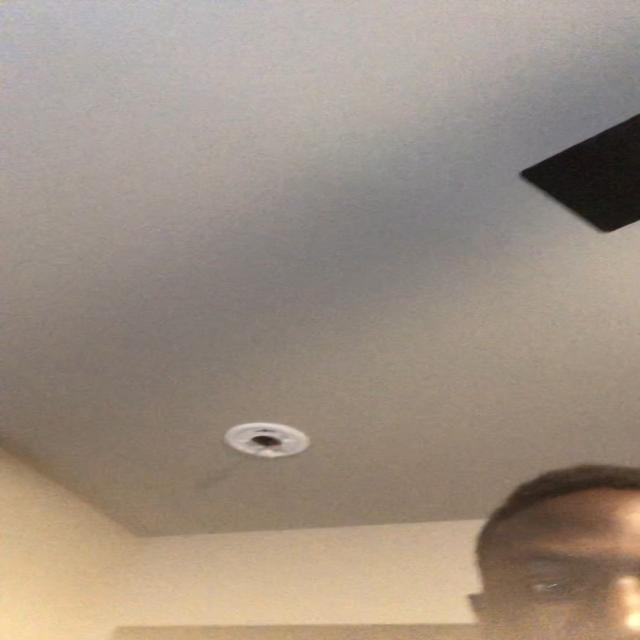face: (468, 477, 640, 640)
